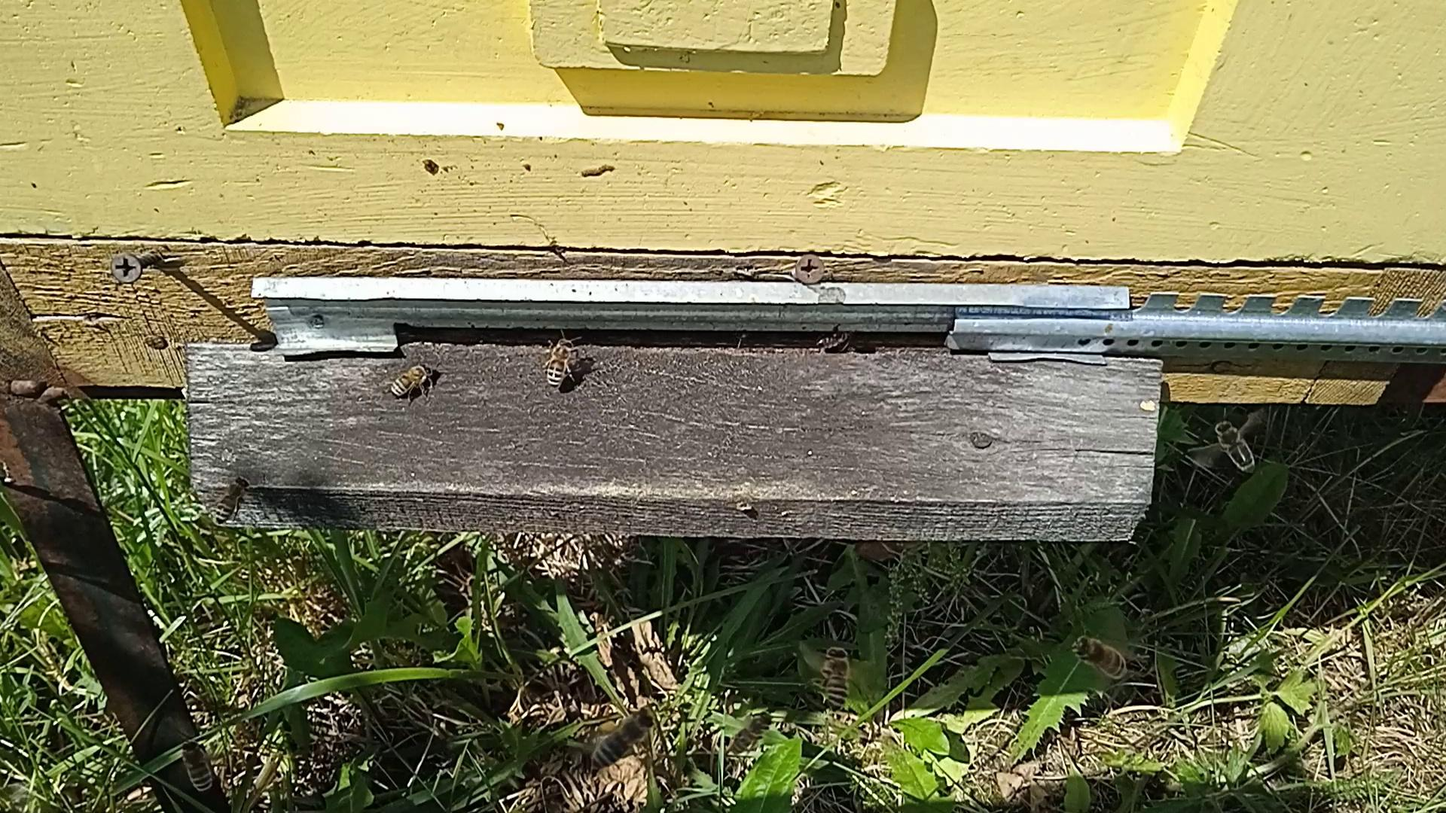worker-bee: (590, 711, 655, 768), (1068, 635, 1129, 680), (1214, 419, 1256, 472), (820, 646, 851, 712), (213, 475, 252, 526), (543, 336, 581, 388), (730, 711, 773, 756), (181, 738, 215, 793), (389, 361, 435, 398), (814, 331, 854, 354)
